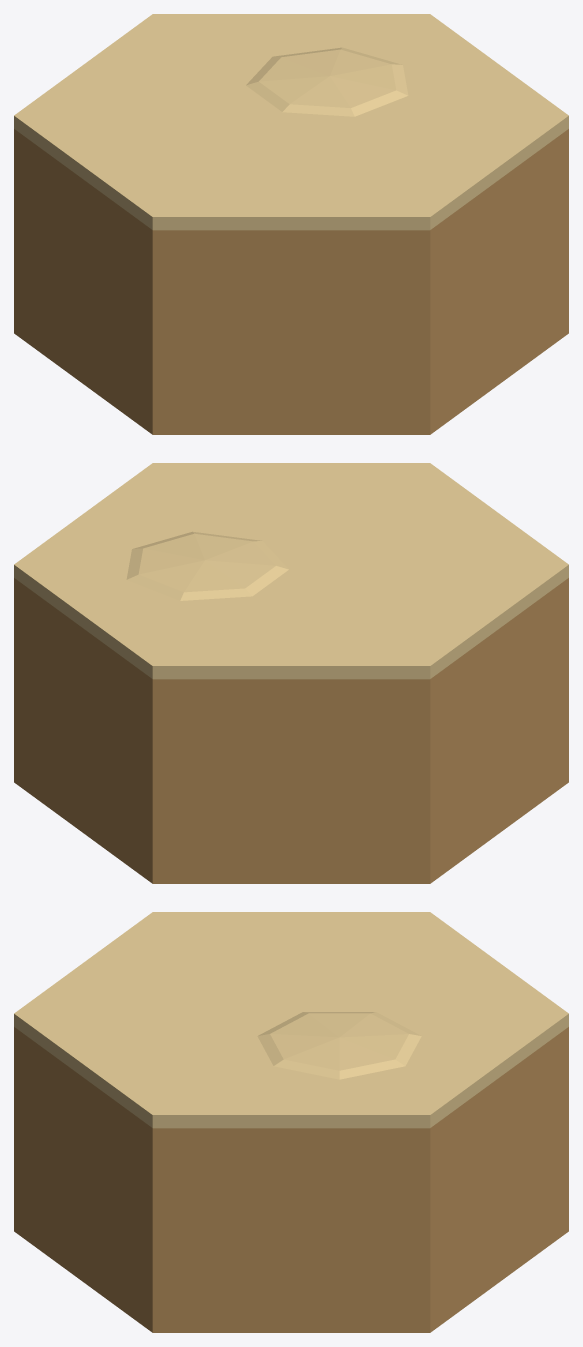
The model's file is b-hex-sand.glb.
The picture shows the model from 3 angles, top to bottom: view 1: azimuth 30°, elevation 25°; view 2: azimuth 150°, elevation 25°; view 3: azimuth 270°, elevation 25°; orthographic projection.
Visible parts, largest first — view 1: b-hex-sand; view 2: b-hex-sand; view 3: b-hex-sand.
Boxes of the visible parts, x1,y1,x2,y2 form: b-hex-sand: (14, 14, 568, 434); b-hex-sand: (14, 463, 568, 883); b-hex-sand: (14, 912, 568, 1332).
Bounding box in the file's own units: 2 × 1.03 × 2.31.
